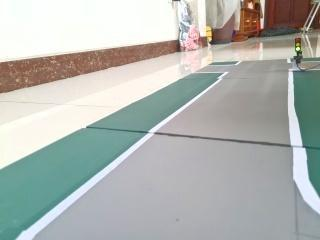green: (288, 32, 305, 62)
